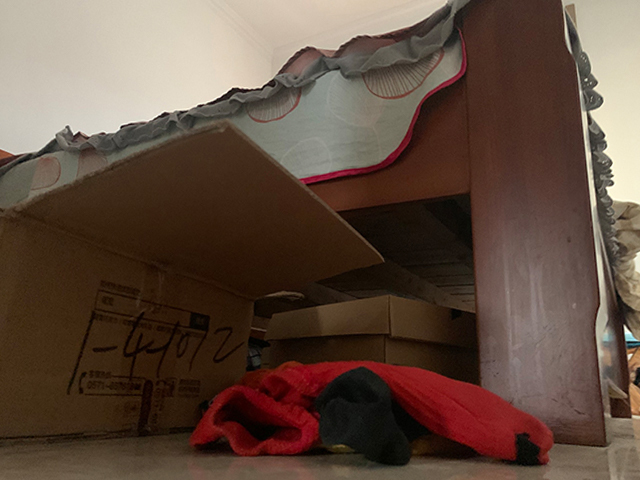bed: (235, 1, 640, 459)
socks: (187, 358, 555, 467)
